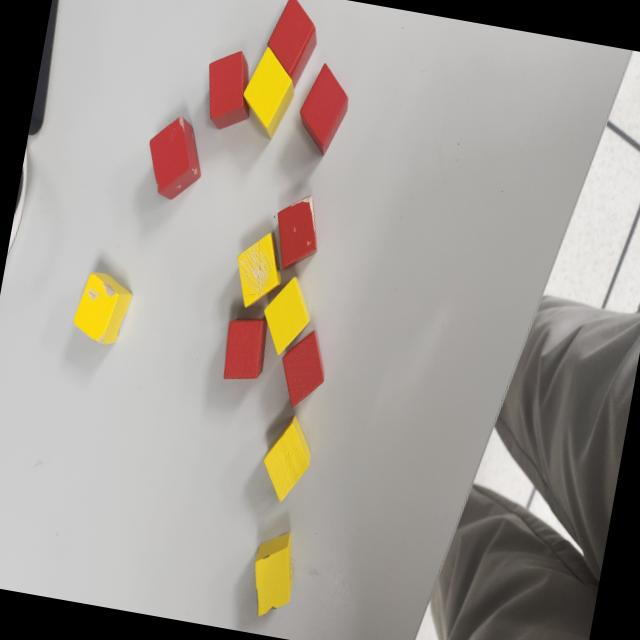broken: (140, 110, 210, 204), (256, 410, 318, 506), (244, 525, 302, 622), (229, 227, 291, 313), (70, 268, 136, 348), (267, 190, 326, 274)
red: (291, 59, 354, 160), (258, 0, 324, 92), (198, 46, 258, 135), (272, 324, 332, 413), (218, 312, 272, 386)
yellow: (236, 44, 301, 140), (256, 271, 316, 361)
